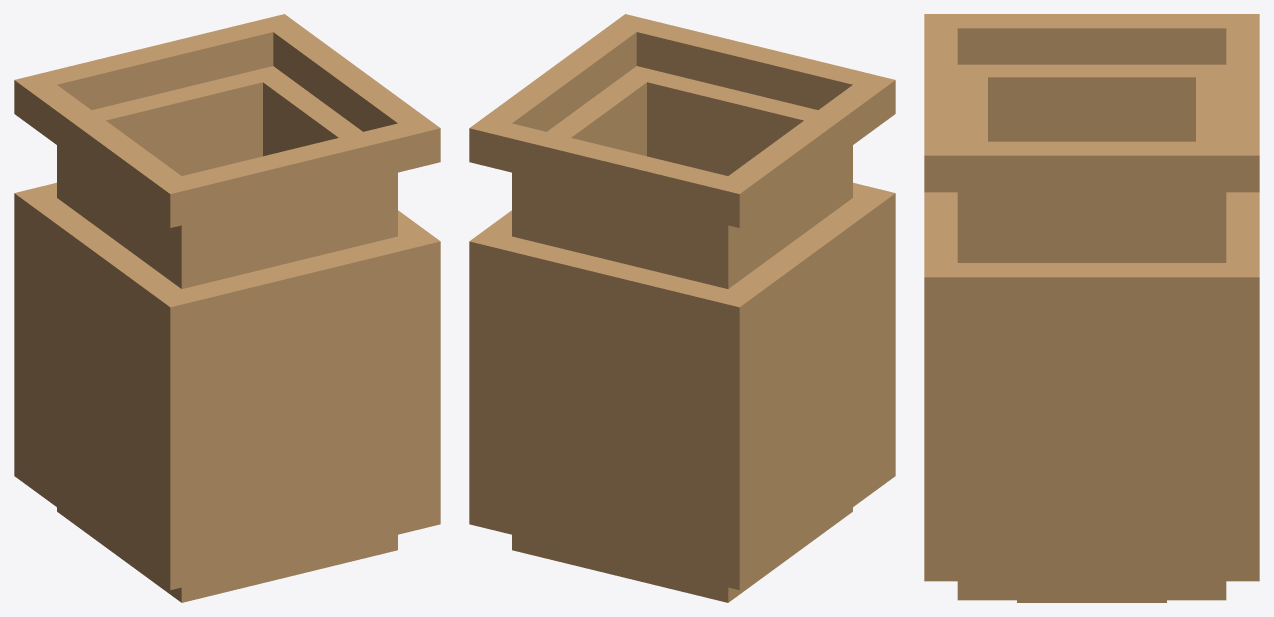
The model's file is vase1.fbx.
3 views of the same model, side by side, from view 1: azimuth 30°, elevation 25°; view 2: azimuth 150°, elevation 25°; view 3: azimuth 270°, elevation 25° (orthographic). The views are drawn at different scales.
Visible parts, largest first — view 1: vase1; view 2: vase1; view 3: vase1.
Part boxes in pixels (box(x1,y1,x2,y2)): vase1: box(14, 14, 440, 602); vase1: box(469, 14, 895, 602); vase1: box(924, 14, 1259, 602).
Bounding box in the file's own units: 75 × 120 × 75.
